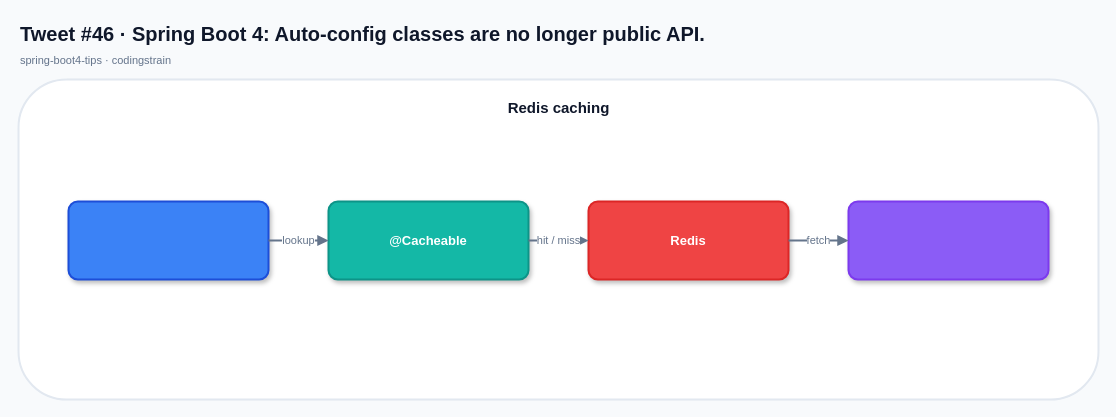
Some shapes in this 1116 by 417 pixel diagram are drawn without their labels. Each missing label, with the centre of its shape:
External API: (949,241)
Request: (169,241)
